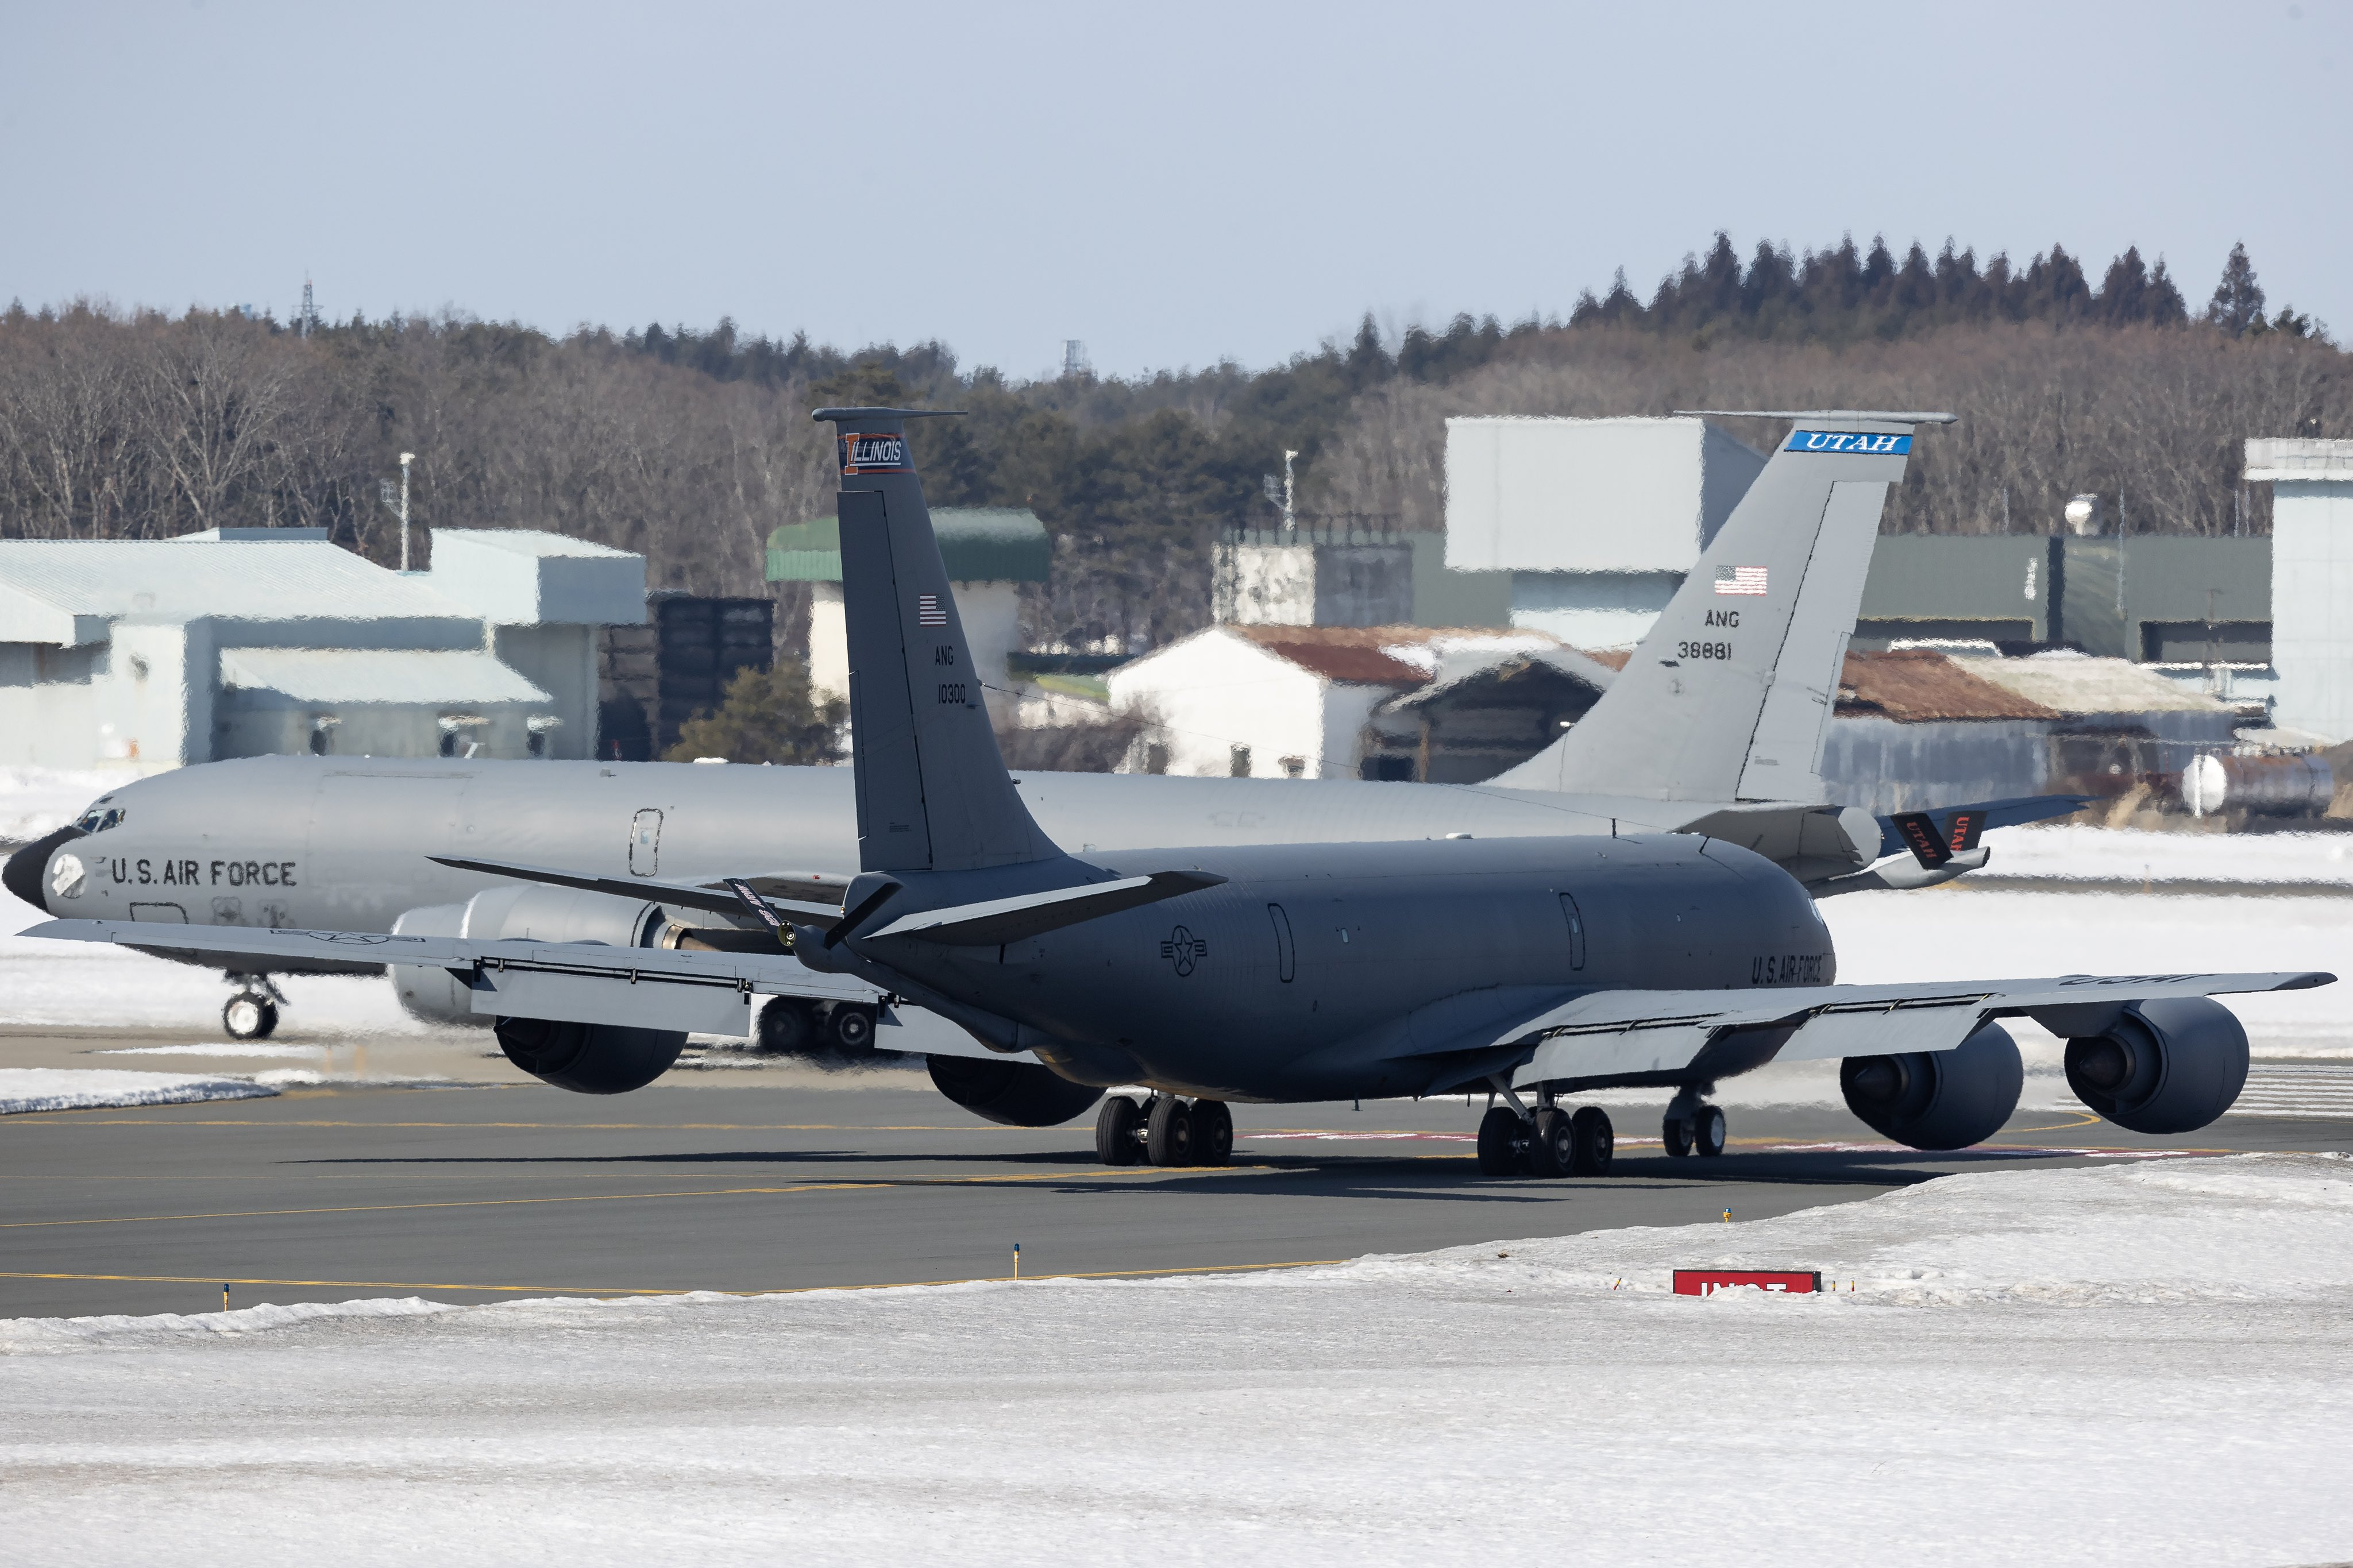airplane: (13, 407, 2338, 1177), (1, 409, 2108, 1060)
